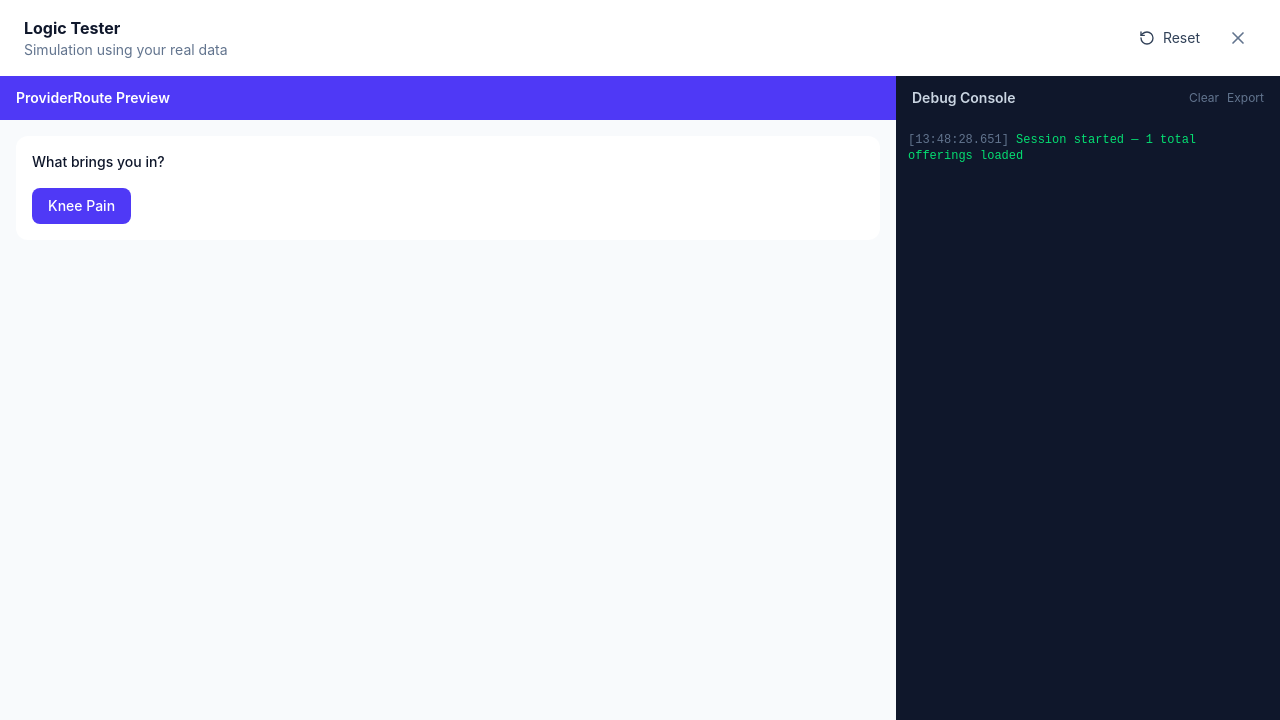
Scenario: LogicTester flow › logs each auto-skip once rather than once per render
Expected: the text "What brings you in?" is shown, [32, 153, 165, 170]
Click the button "Knee Pain" at [82, 206], box [32, 188, 131, 224]
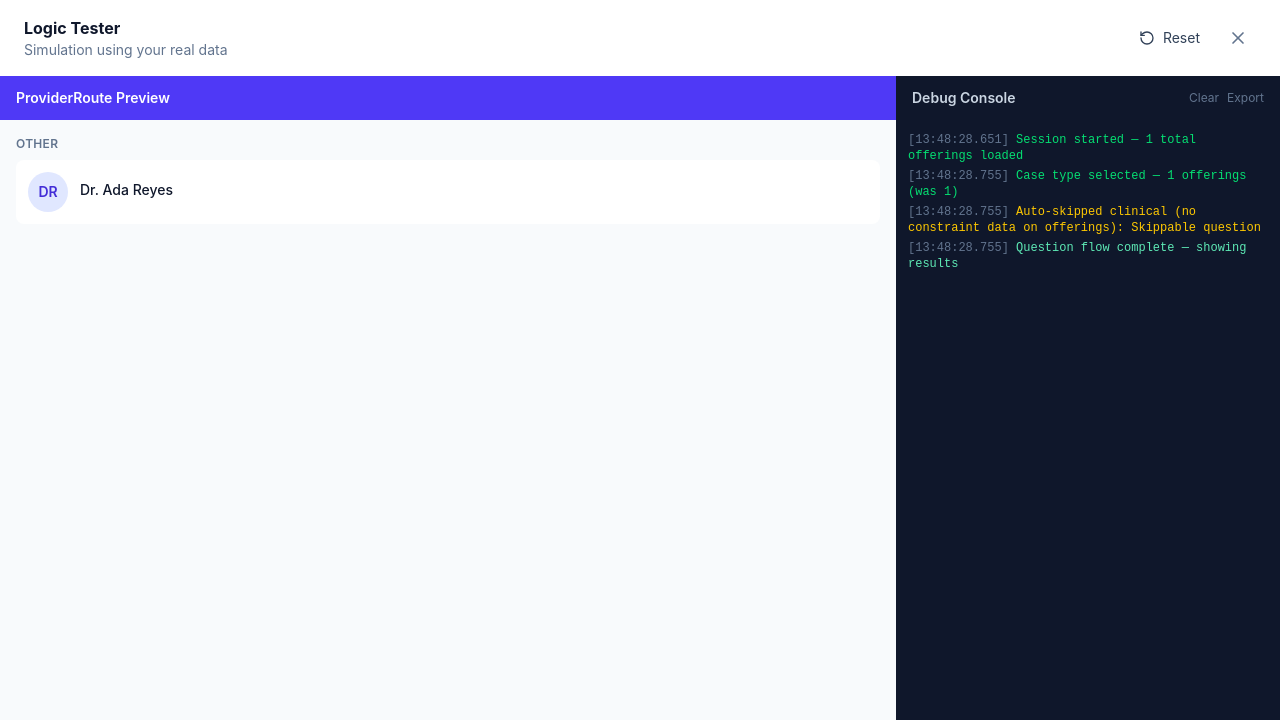
Result: the text "Auto-skipped clinical" is shown once at [908, 204, 1268, 236]
Result: the text "[13:48:28.755] Question flow complete — showing results" is shown once at [908, 240, 1268, 272]
